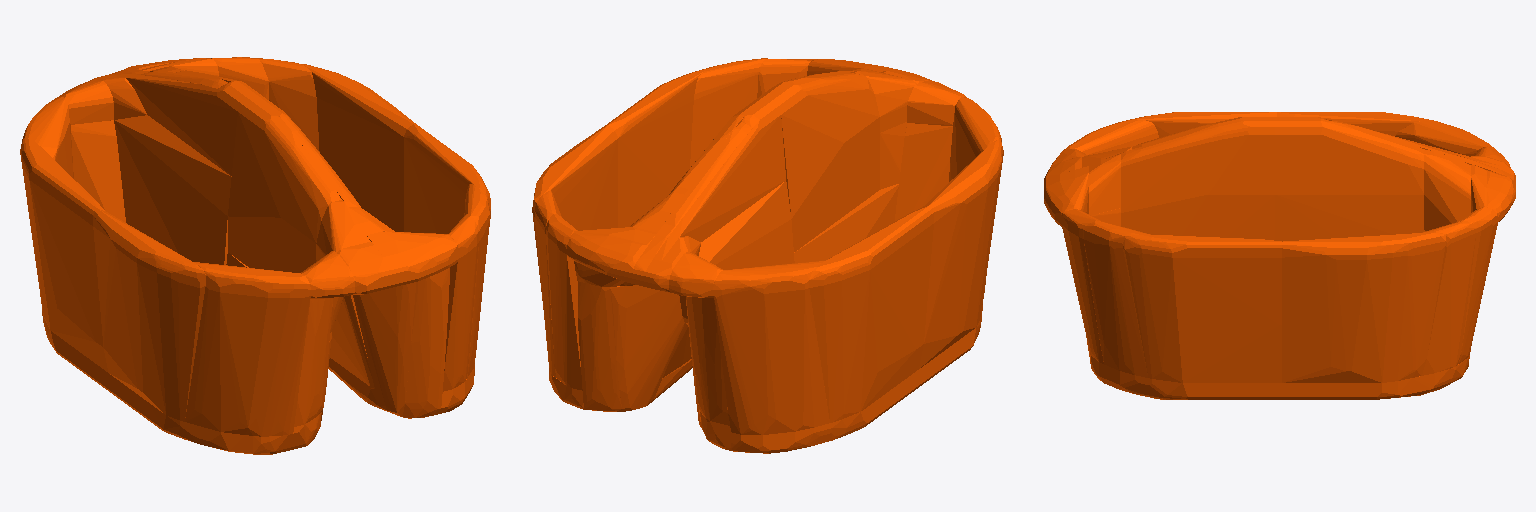
robot.urdf — Sterilite:
<?xml version="1.0" ?>
<robot name="Sterilite">
   <material name="obj_color">
      <color rgba="1.0 0.423529411765 0.0392156862745 1.0"/>
   </material>
   <link name="top">
      <inertial>
         <origin rpy="0.0007134348764883204 0.001157200071156746 0.001409602578825367" xyz="-0.0001339170051636946 0.0009434394906985346 -0.00730648268135891"/>
         <mass value="0.5692180067654605"/>
         <inertia ixx="0.001157041790870843" ixy="-8.459938594715521e-06" ixz="7.723148720436346e-07" iyy="0.0007136427100027514" iyz="-5.703880817040963e-06" izz="0.001409553025596839"/>
      </inertial>
      <visual>
         <origin rpy="0 0 0" xyz="0 0 0"/>
         <geometry>
            <mesh filename="top_watertight_tiny.obj" scale="1 1 1"/>
         </geometry>
         <material name="obj_color"/>
      </visual>
      <collision>
         <origin rpy="0 0 0" xyz="0 0 0"/>
         <geometry>
            <mesh filename="top_watertight_tiny.obj" scale="1 1 1"/>
         </geometry>
      </collision>
   </link>
</robot>

--- Facts derived from the render (not from the file) ---
Views: 3 orthographic renders of the robot side by side, from view 1: azimuth 30°, elevation 25°; view 2: azimuth 150°, elevation 25°; view 3: azimuth 270°, elevation 25°.
Model Sterilite with 1 links and 0 joints (none), rooted at top, posed all joints at 0.
Links seen in each view (by area): view 1: top; view 2: top; view 3: top.
Link boxes in pixels (left/top/right/bottom): top: left=20, top=57, right=490, bottom=454; top: left=532, top=58, right=1003, bottom=453; top: left=1044, top=112, right=1515, bottom=399.
Size in the robot's own frame: 0.1103 by 0.1538 by 0.0802 metres.
1 mesh visuals loaded from 1 distinct referenced files (1 OBJ).